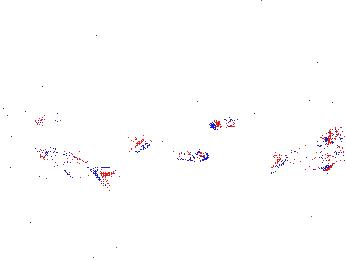red belly glassfish: (209, 108, 261, 132), (33, 115, 87, 133)
redtail glassfish: (16, 145, 118, 191), (125, 131, 210, 168), (259, 144, 344, 179)
